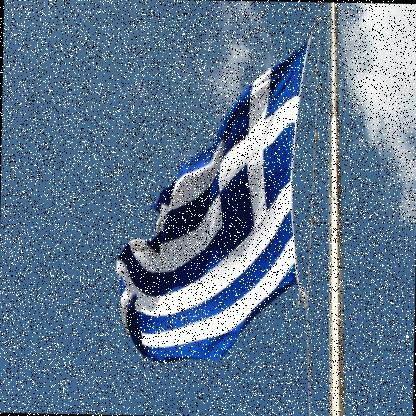gr: (104, 46, 313, 370)
